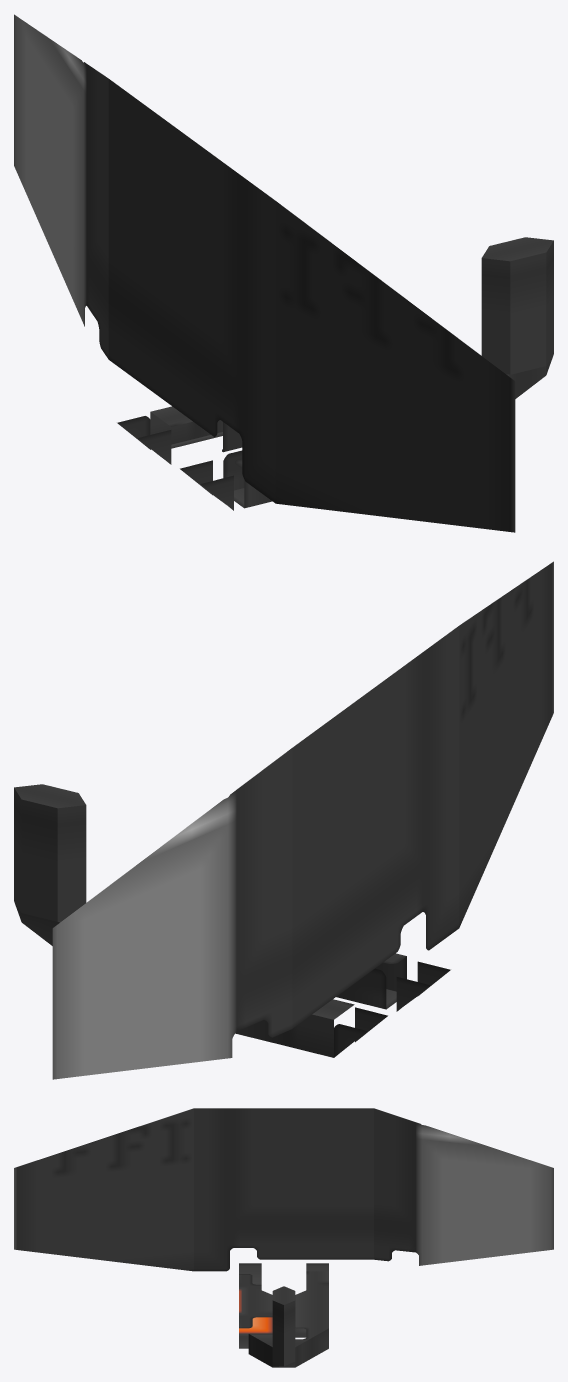
The model's file is radar_dish.obj.
The picture shows the model from 3 angles, top to bottom: view 1: azimuth 30°, elevation 25°; view 2: azimuth 150°, elevation 25°; view 3: azimuth 270°, elevation 25°; orthographic projection. The views are drawn at different scales.
Parts seen in each view (by area): view 1: Dish; view 2: Dish; view 3: Dish.
Boxes of the visible parts, x1,y1,x2,y2 form: Dish: [14, 14, 553, 532]; Dish: [14, 561, 553, 1079]; Dish: [14, 1108, 553, 1367].
Size of the model in its own units: 1.38 by 1.12 by 3.
